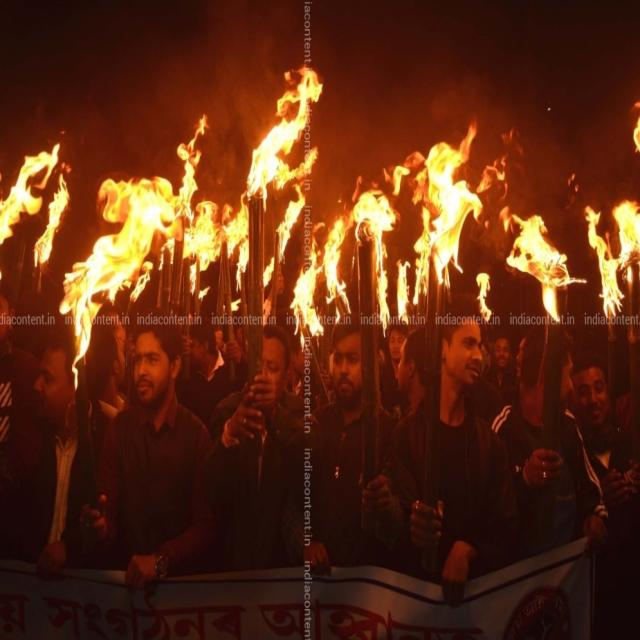fire: (413, 124, 482, 304), (92, 173, 177, 317), (246, 65, 322, 210), (500, 206, 587, 322), (586, 201, 640, 319), (0, 140, 60, 244), (355, 188, 396, 336), (182, 202, 249, 273), (61, 261, 91, 392), (291, 238, 325, 350), (176, 112, 208, 227), (33, 173, 70, 267), (322, 217, 351, 323), (278, 183, 305, 260), (381, 150, 425, 197), (477, 154, 507, 200)
